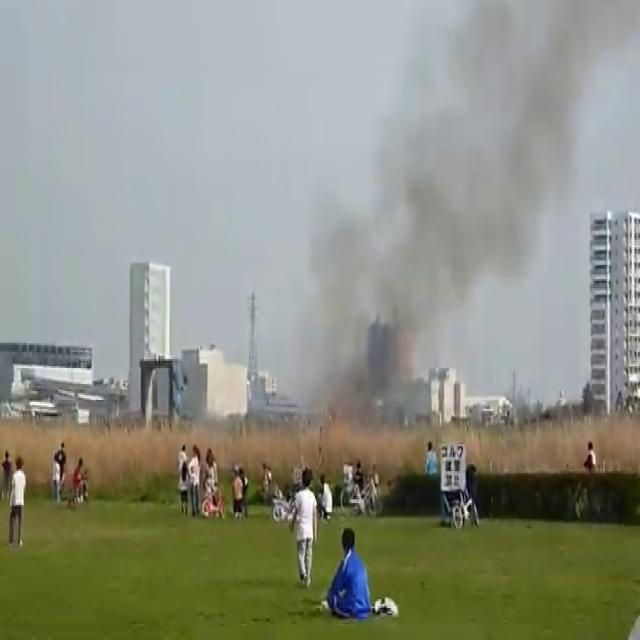Smoke: (289, 1, 576, 449)
